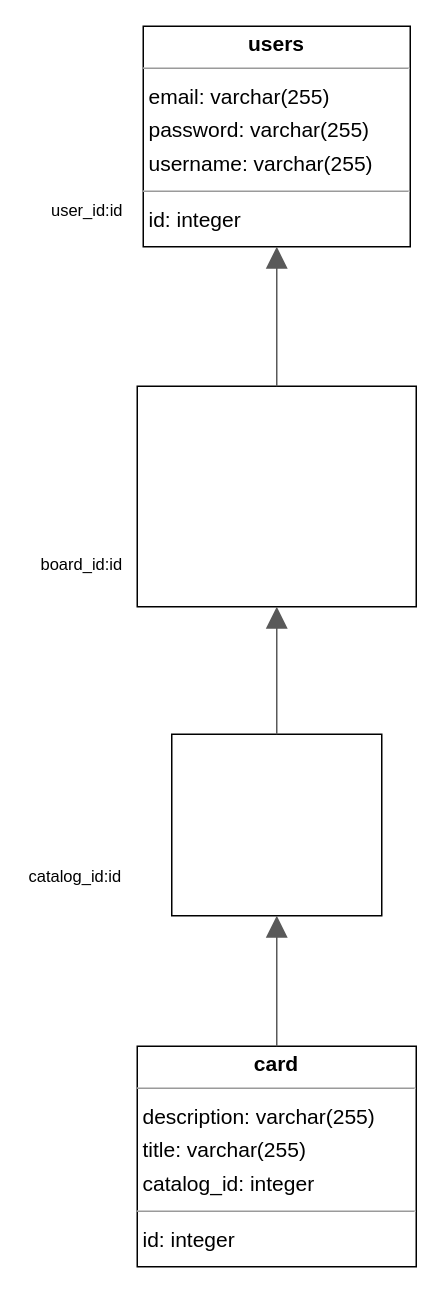
The diagram is 443 pixels wide and 1293 high, and some of its shapes have lost their labels. Each missing label, with the box of its shape:
board description: varchar(255) title: varchar(255) user_id: integer id: integer: (136, 385, 416, 607)
catalog title: varchar(255) board_id: integer id: integer: (170, 733, 382, 916)
